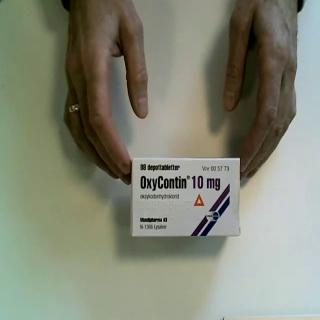oxynorm10mg: (130, 156, 243, 240)
